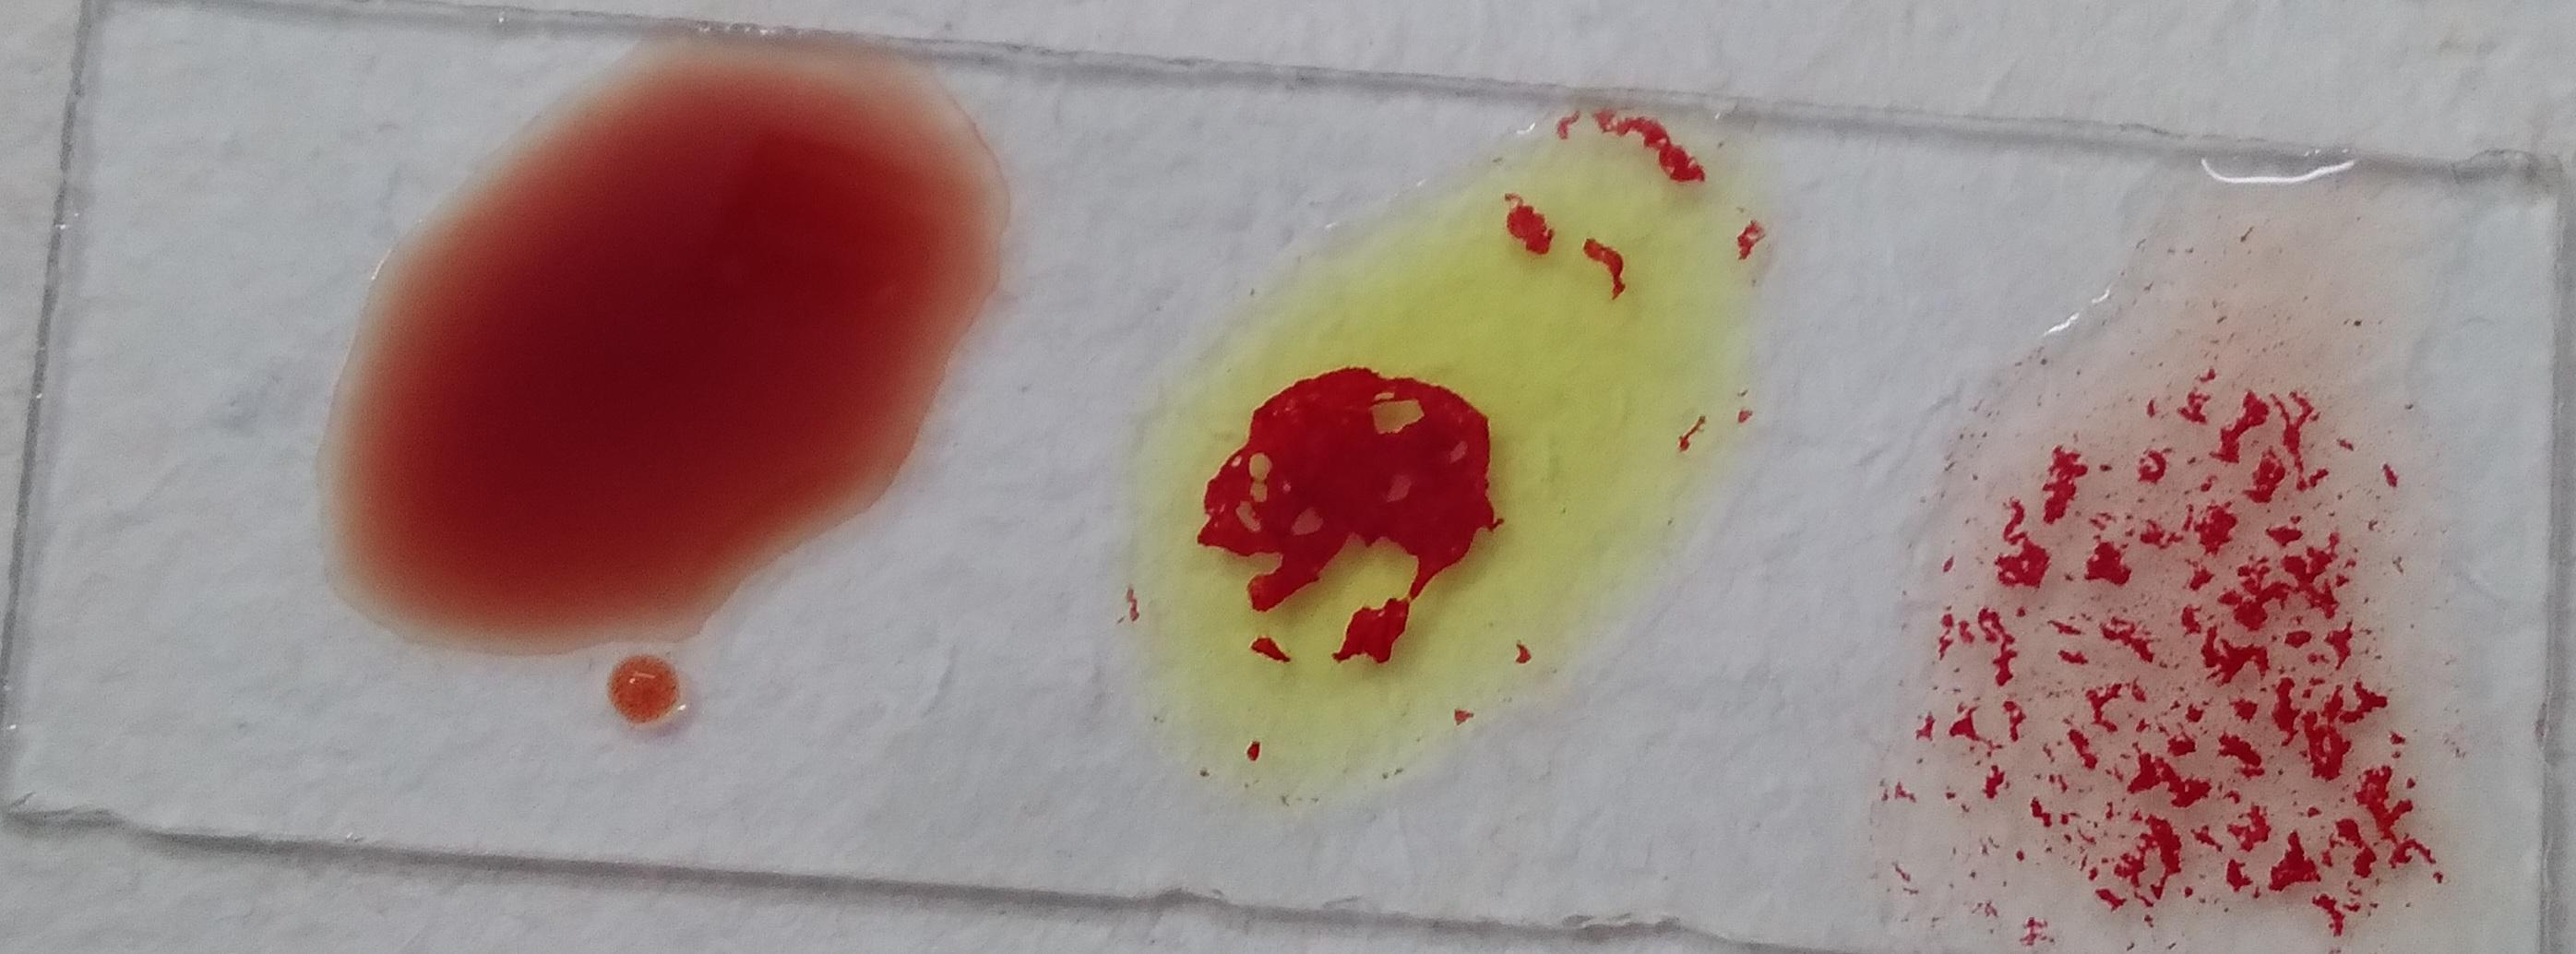B: (826, 161, 1403, 872)
D: (108, 13, 674, 650)
